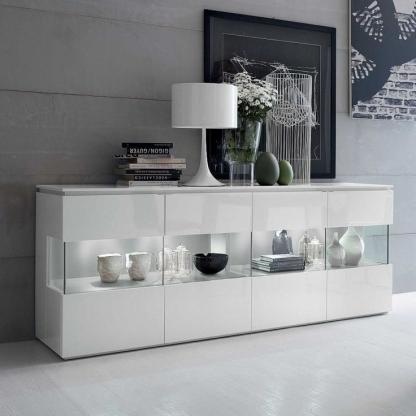Cupboard: (36, 183, 395, 361)
